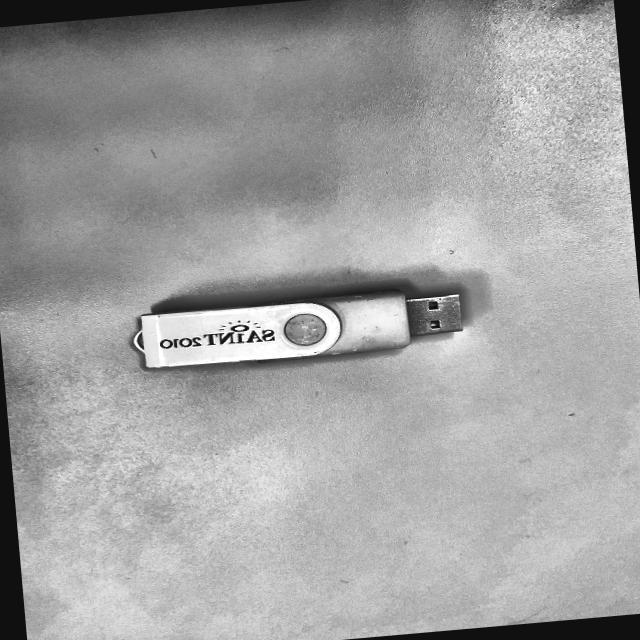Mug: (118, 264, 497, 382)
